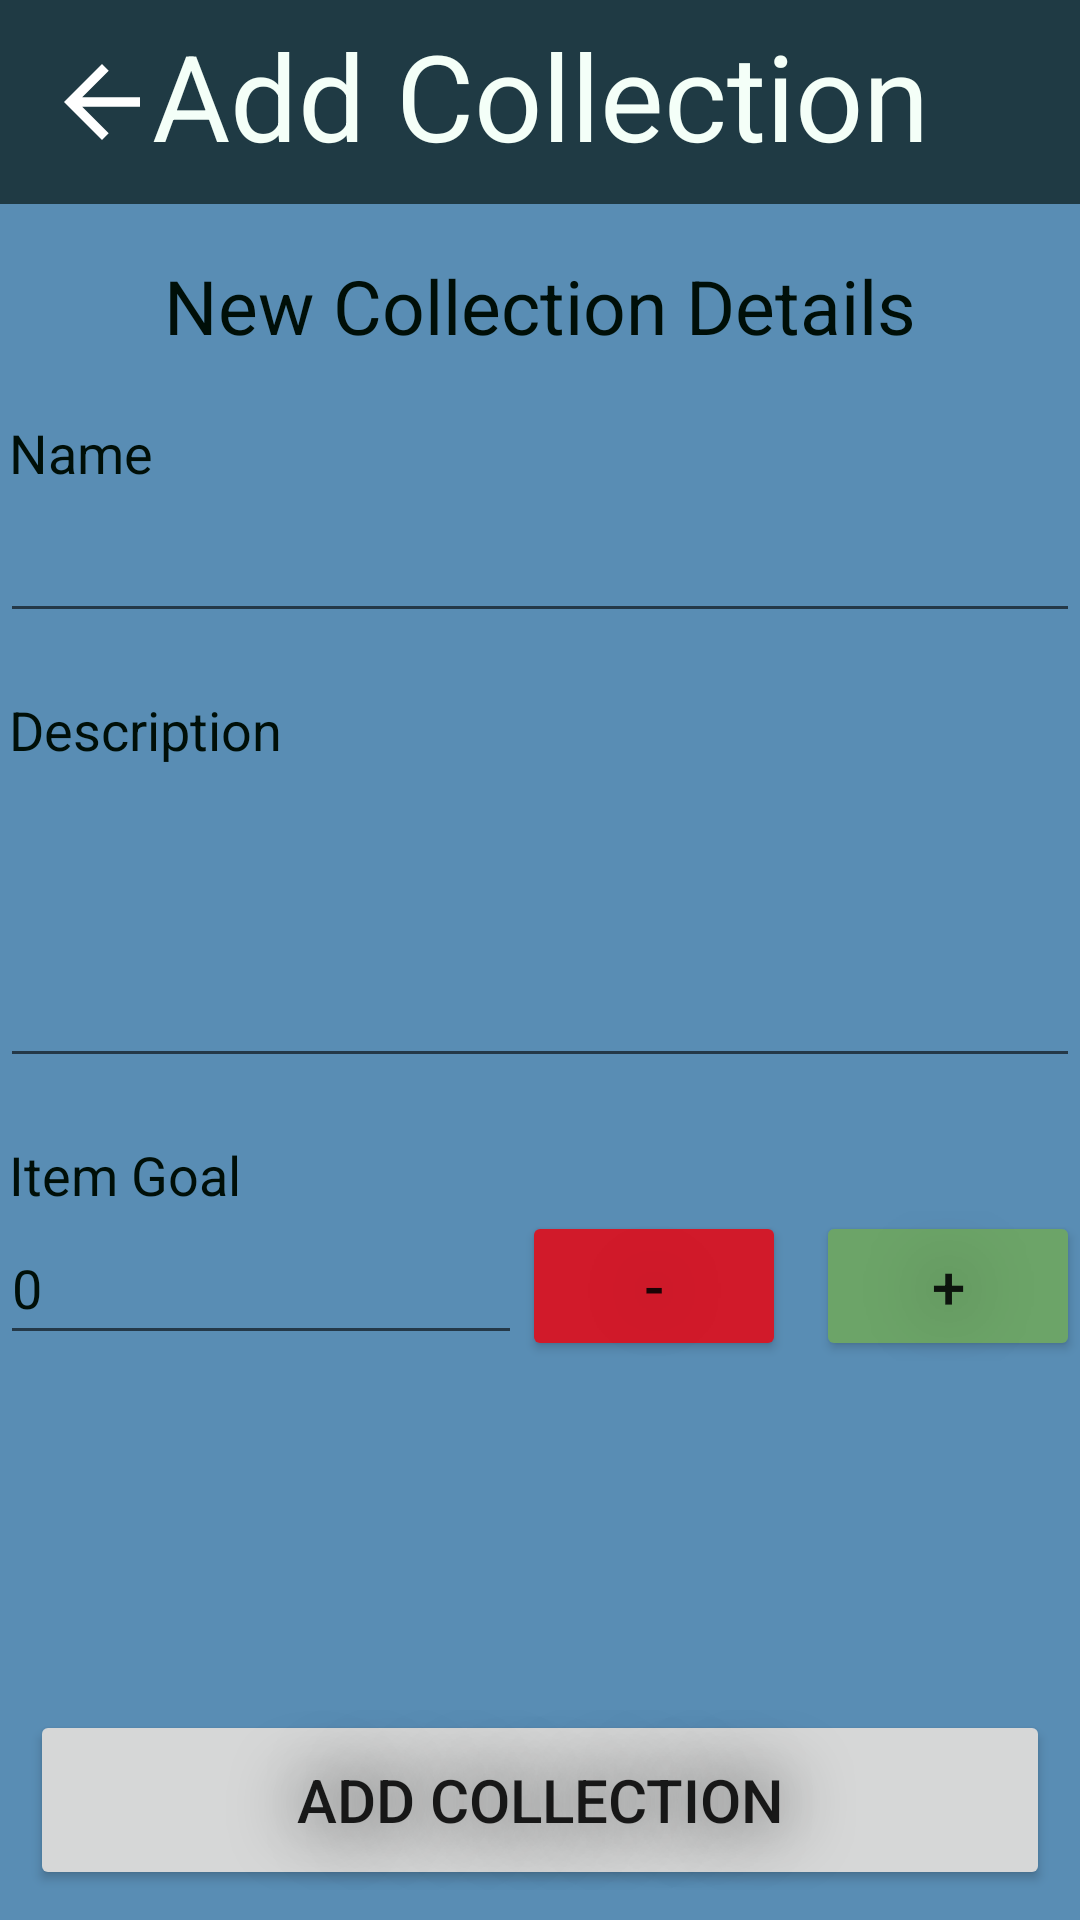

Screen size 1080w x 1920h. Icon name, then its box in pixels as [left=x1, top=y1, right=x2, bottom=y2]:
arrow: [left=64, top=64, right=140, bottom=140]
